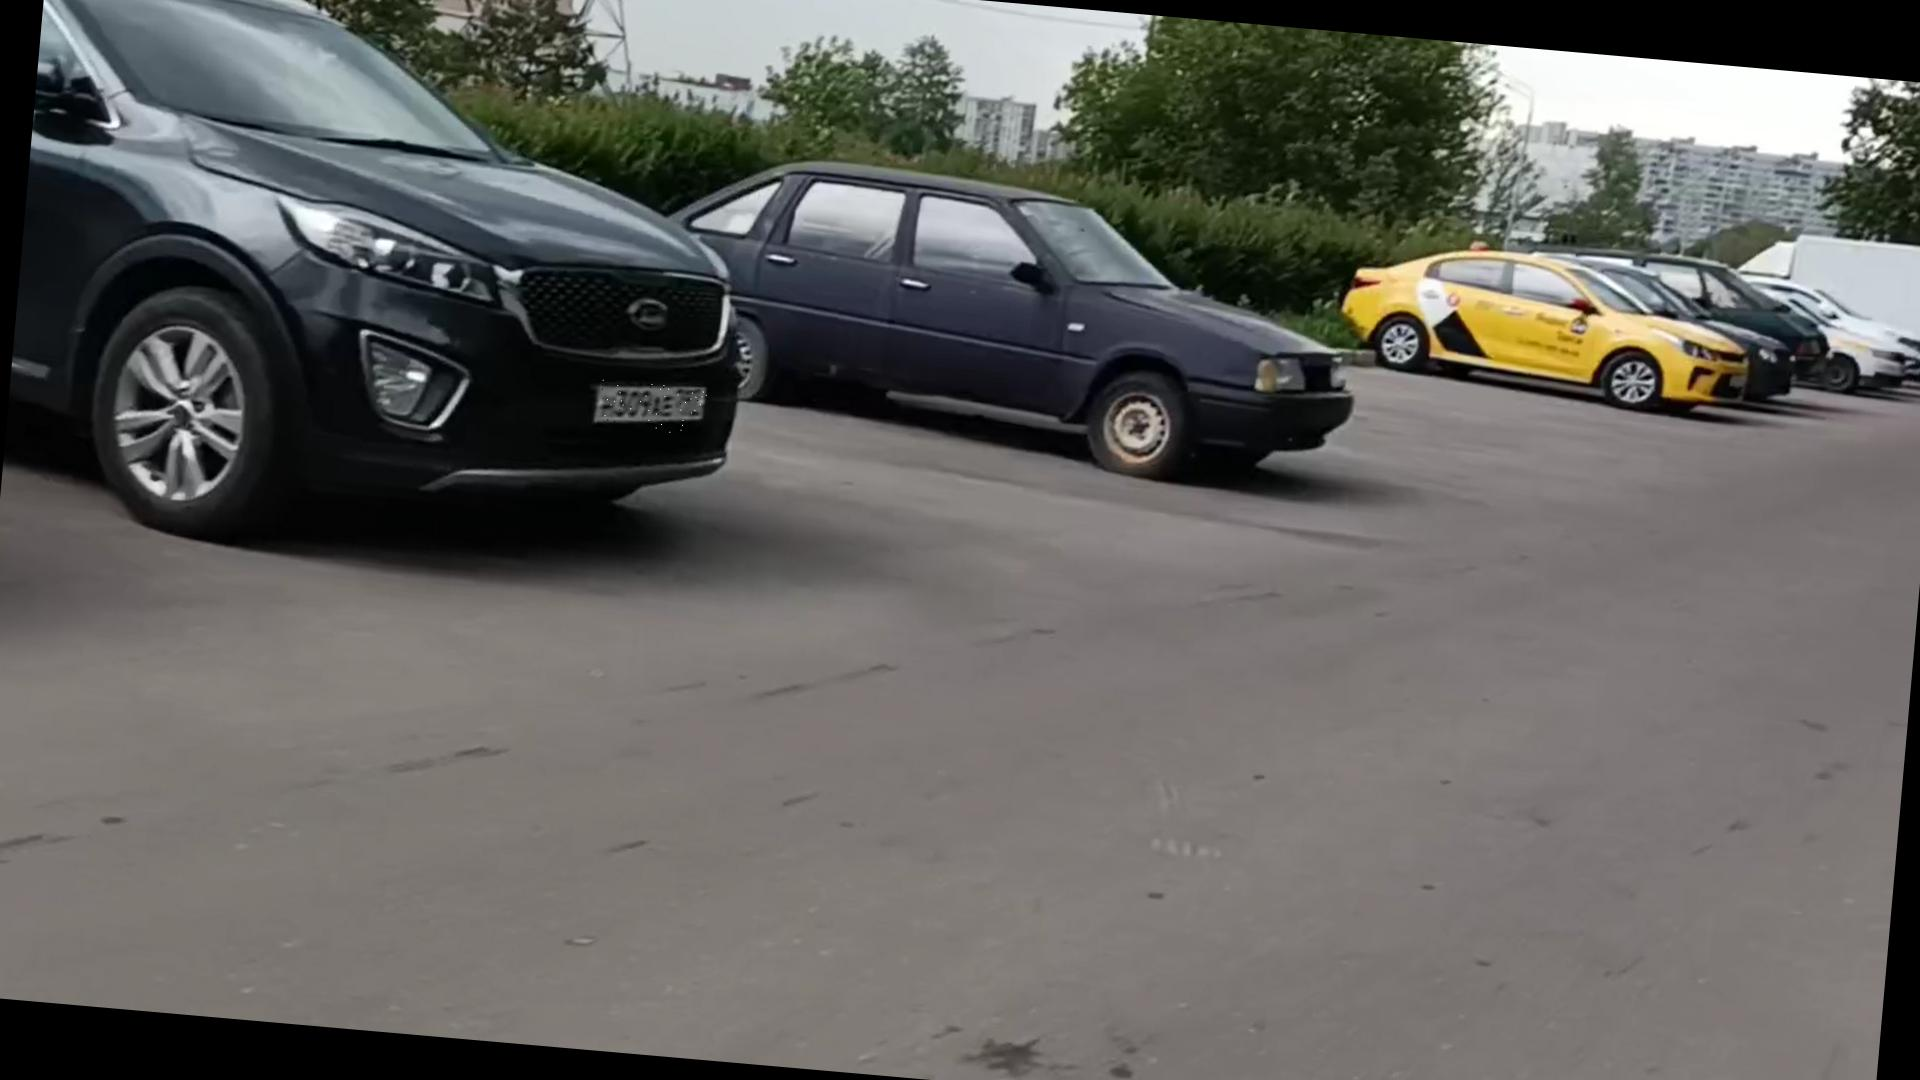plate: (598, 380, 710, 437)
